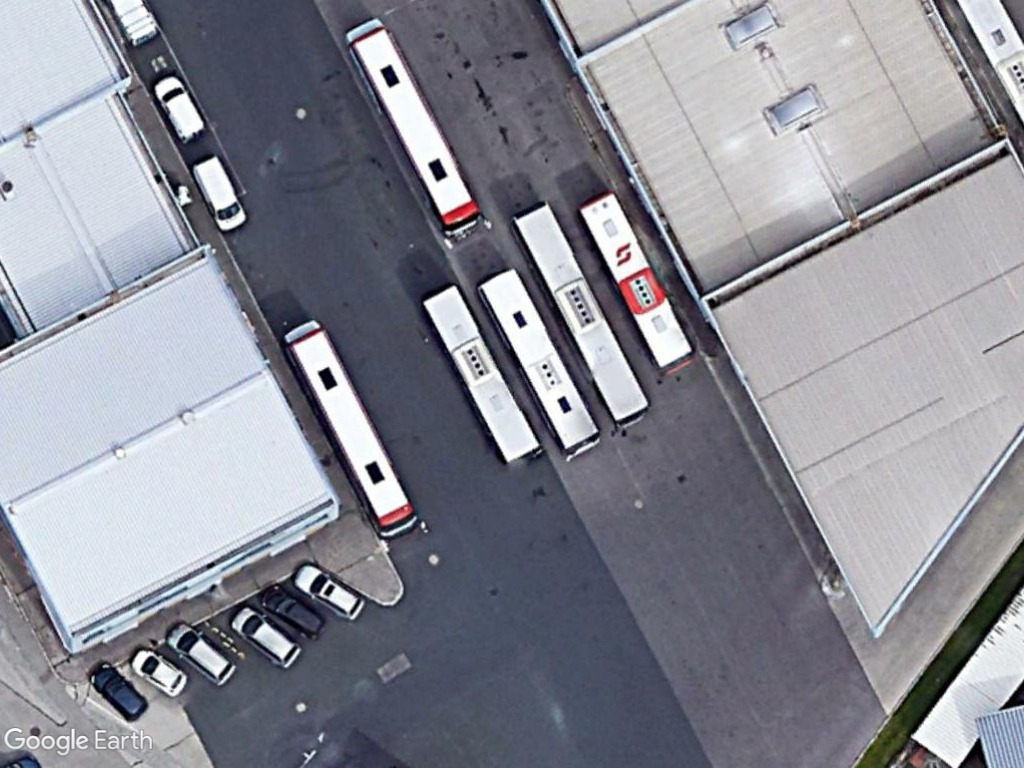bus: (508, 197, 656, 431), (340, 19, 484, 239), (278, 322, 422, 538), (476, 264, 603, 465), (416, 281, 545, 467), (577, 188, 699, 381)
car: (227, 602, 307, 670), (164, 621, 239, 689), (294, 561, 367, 622), (259, 582, 328, 641), (88, 661, 149, 723), (125, 645, 187, 697)
van: (193, 153, 251, 236), (154, 72, 207, 145)
